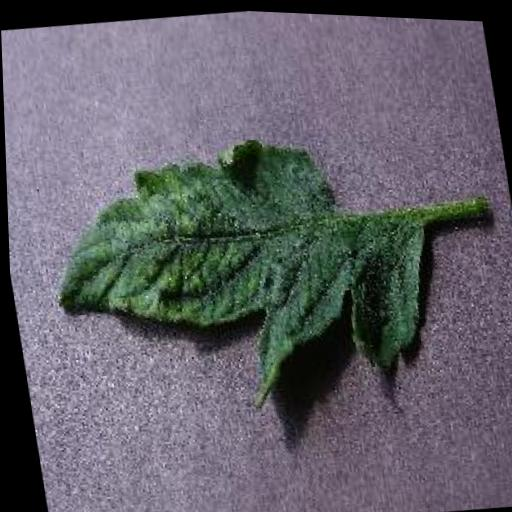Mosaic Virus: (35, 109, 450, 437)
